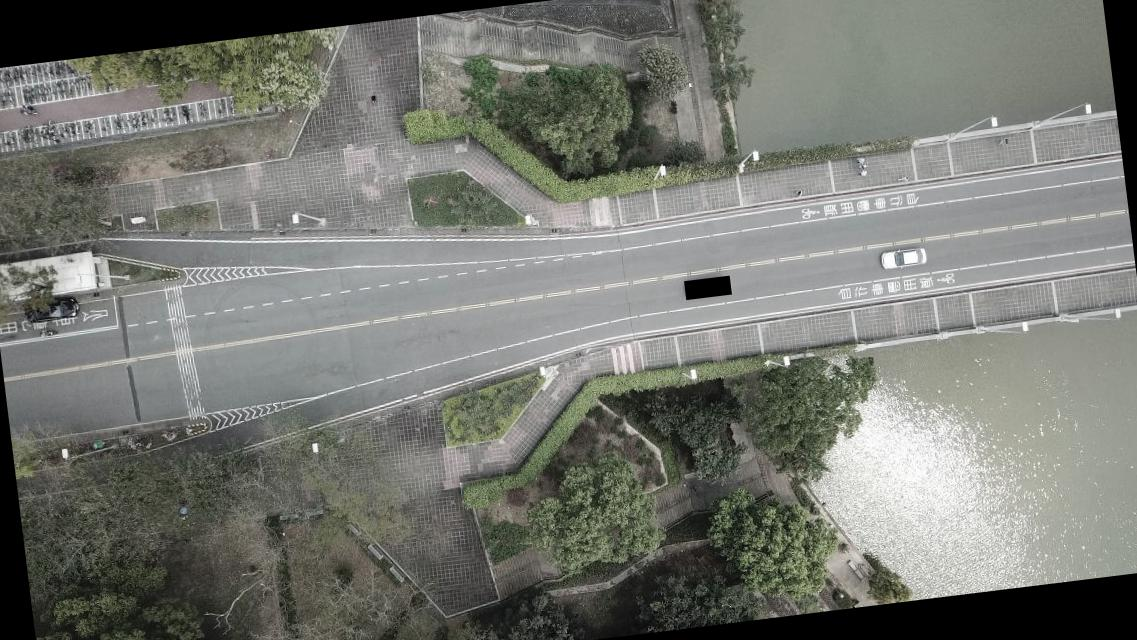vehicle: (23, 294, 80, 324), (879, 246, 926, 270)
